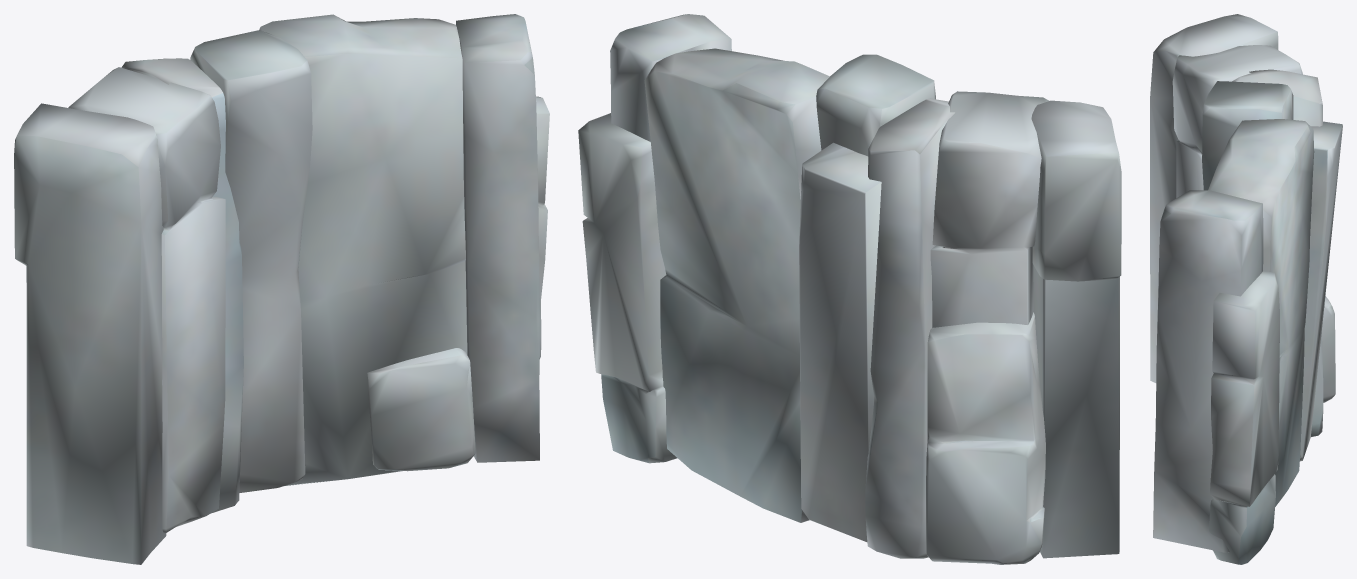
File: P_CubicCliff07.obj
The picture shows the model from 3 angles, left to right: view 1: azimuth 30°, elevation 25°; view 2: azimuth 150°, elevation 25°; view 3: azimuth 270°, elevation 25°; orthographic projection. The views are drawn at different scales.
Bounding box in the file's own units: 27.36 × 21.41 × 10.3.
